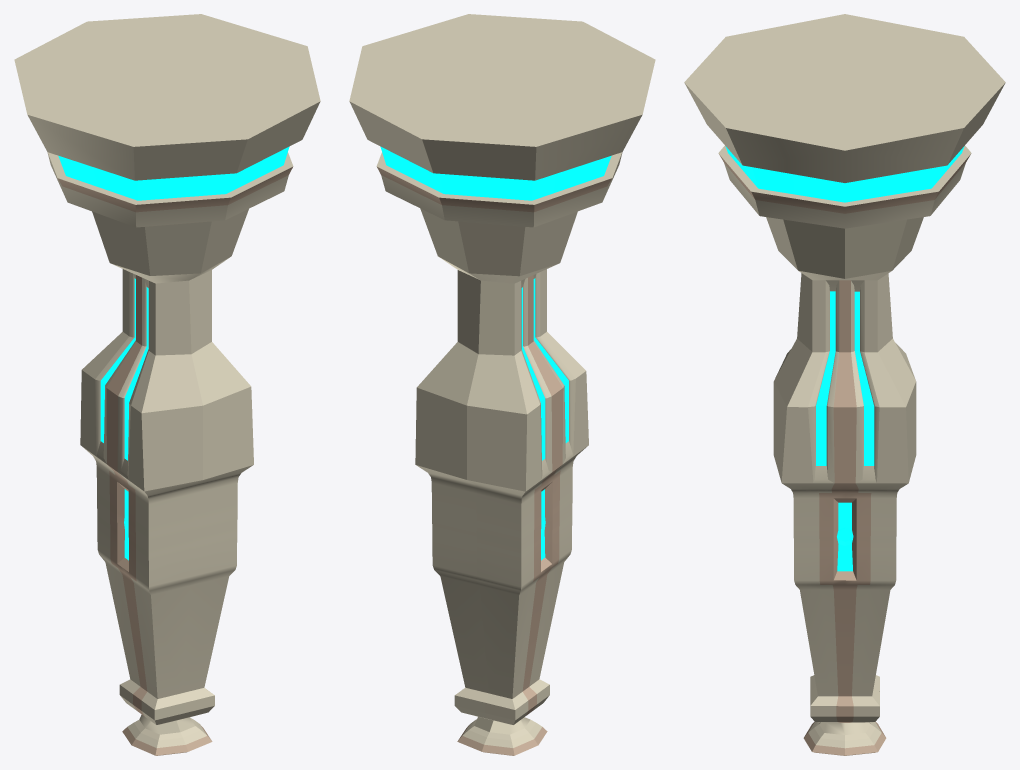
The model's file is Beaconnn.fbx.
3 views of the same model, side by side, from view 1: azimuth 30°, elevation 25°; view 2: azimuth 150°, elevation 25°; view 3: azimuth 270°, elevation 25° (orthographic).
Parts seen in each view (by area): view 1: polySurface2; view 2: polySurface2; view 3: polySurface2.
Part boxes in pixels (<box>): polySurface2: <box>14,14,320,755</box>; polySurface2: <box>349,14,655,755</box>; polySurface2: <box>684,14,1005,755</box>.
Bounding box in the file's own units: 2.81 × 6.29 × 2.79.
